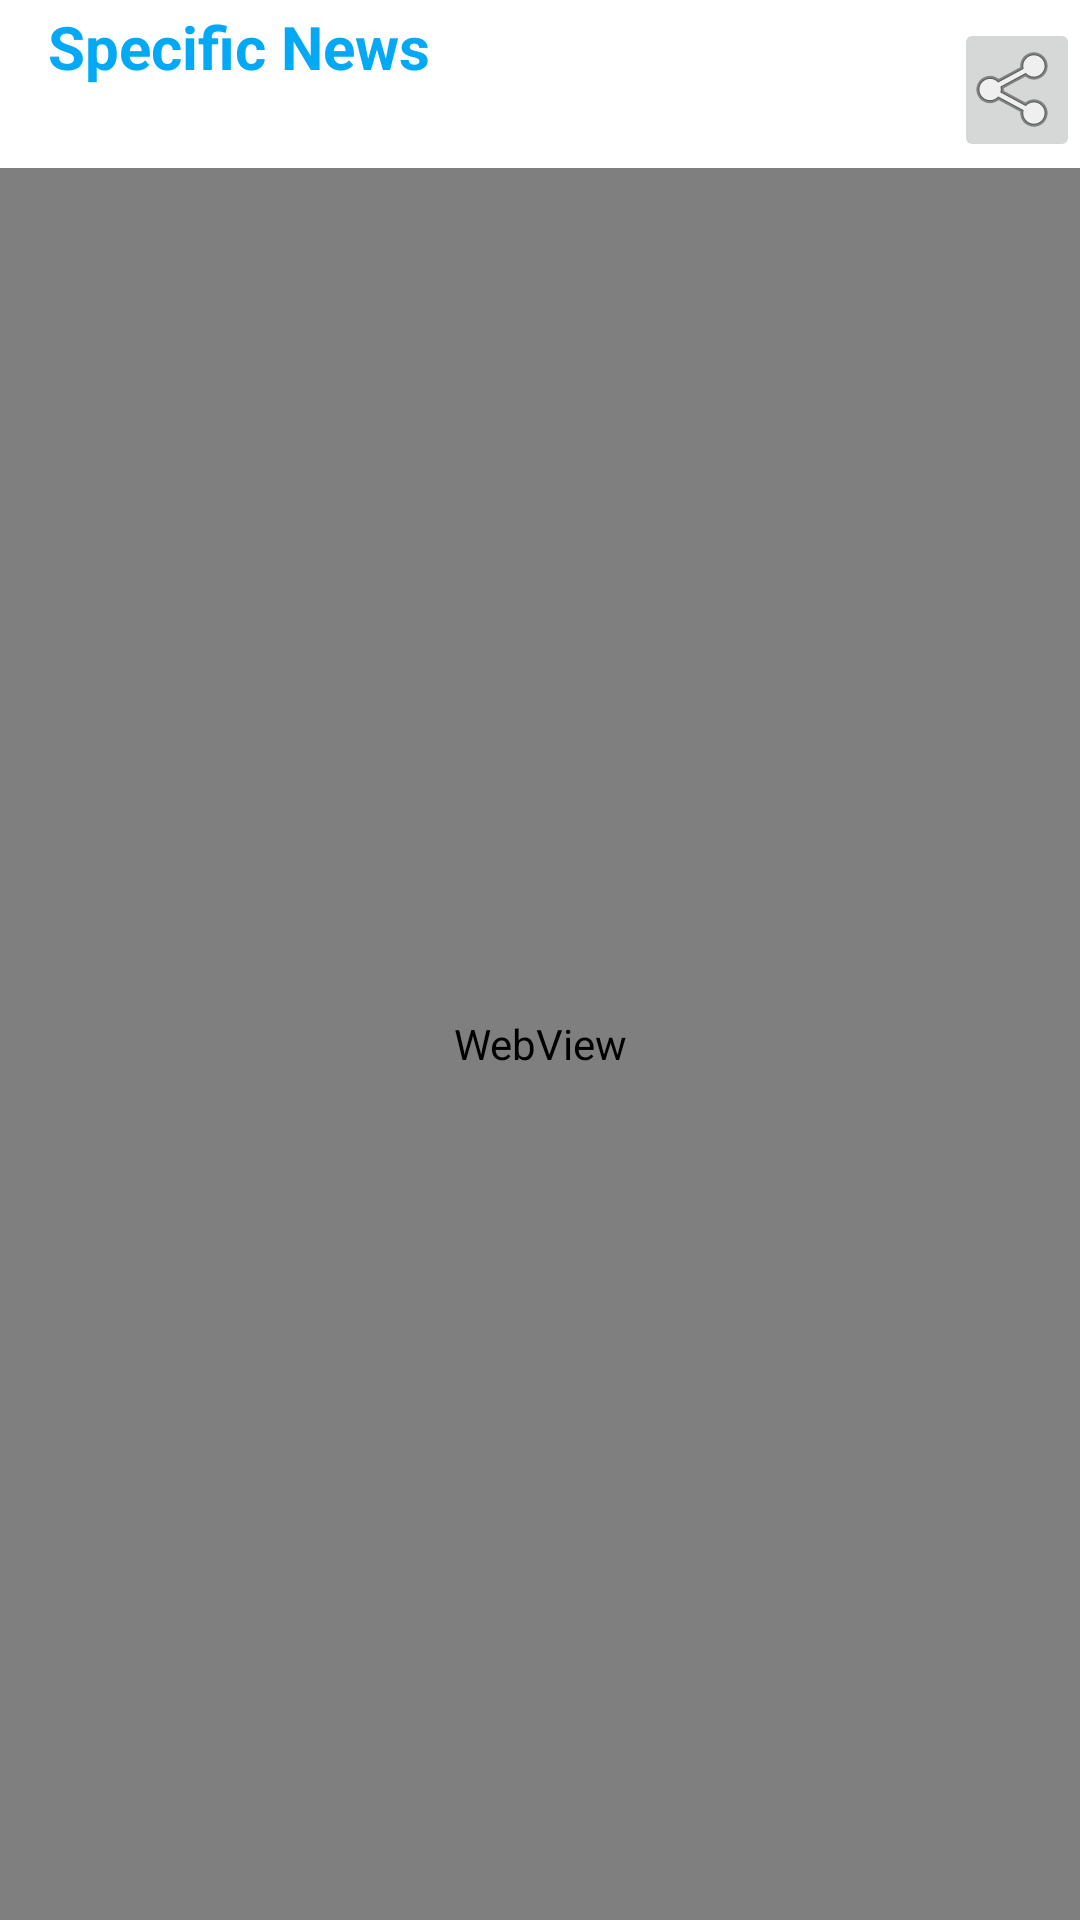

Icons on this 1080px×1920px Android screen, each with its box as (x1, y1, x2, y2):
share: (966, 36, 1068, 144)
